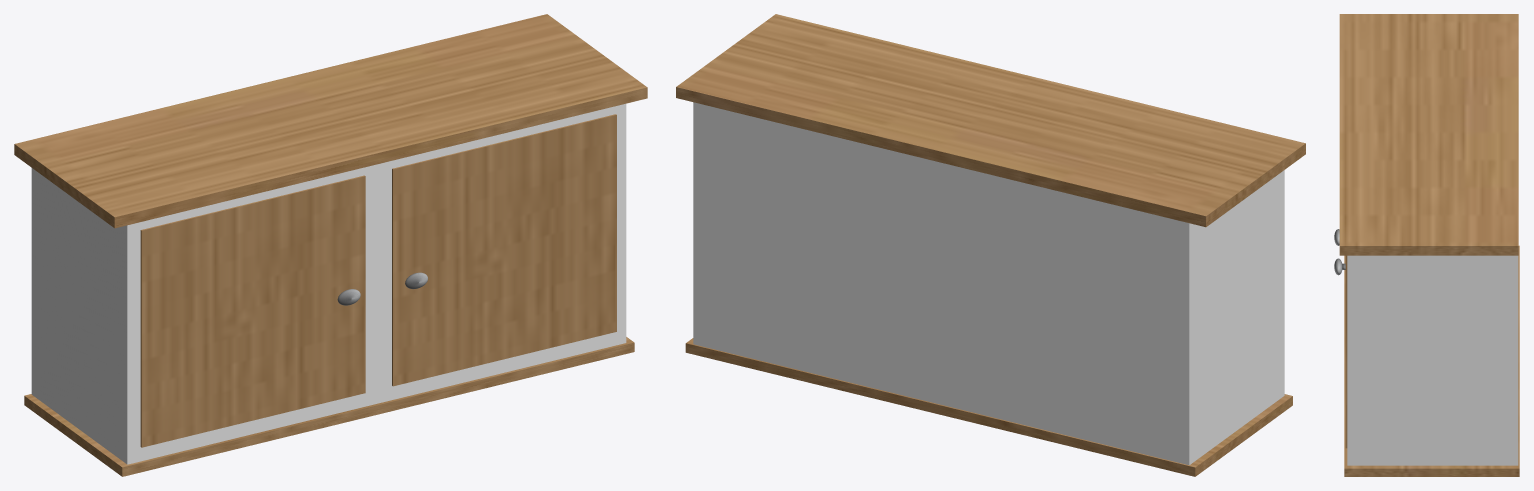
File: Floating Cupboard (center-2 doors).fbx
3 views of the same model, side by side, from view 1: azimuth 30°, elevation 25°; view 2: azimuth 150°, elevation 25°; view 3: azimuth 270°, elevation 25° (orthographic). The views are drawn at different scales.
Parts seen in each view (by area): view 1: Counter, Door 1.002, Door 1, Base, Base.001; view 2: Base, Counter, Base.001; view 3: Counter, Base, Base.001, Door 1.
Part boxes in pixels (x1,y1,x2,y2): Counter: [14, 14, 647, 228]; Door 1.002: [140, 175, 365, 447]; Door 1: [392, 114, 616, 386]; Base: [31, 103, 626, 464]; Base.001: [24, 337, 634, 476]; Base: [693, 102, 1284, 465]; Counter: [676, 14, 1305, 227]; Base.001: [685, 338, 1292, 476]; Counter: [1339, 14, 1518, 255]; Base: [1347, 255, 1518, 465]; Base.001: [1344, 245, 1519, 476]; Door 1: [1345, 255, 1347, 448].
Size of the model in its own units: 1.33 by 0.6306 by 0.4498.
